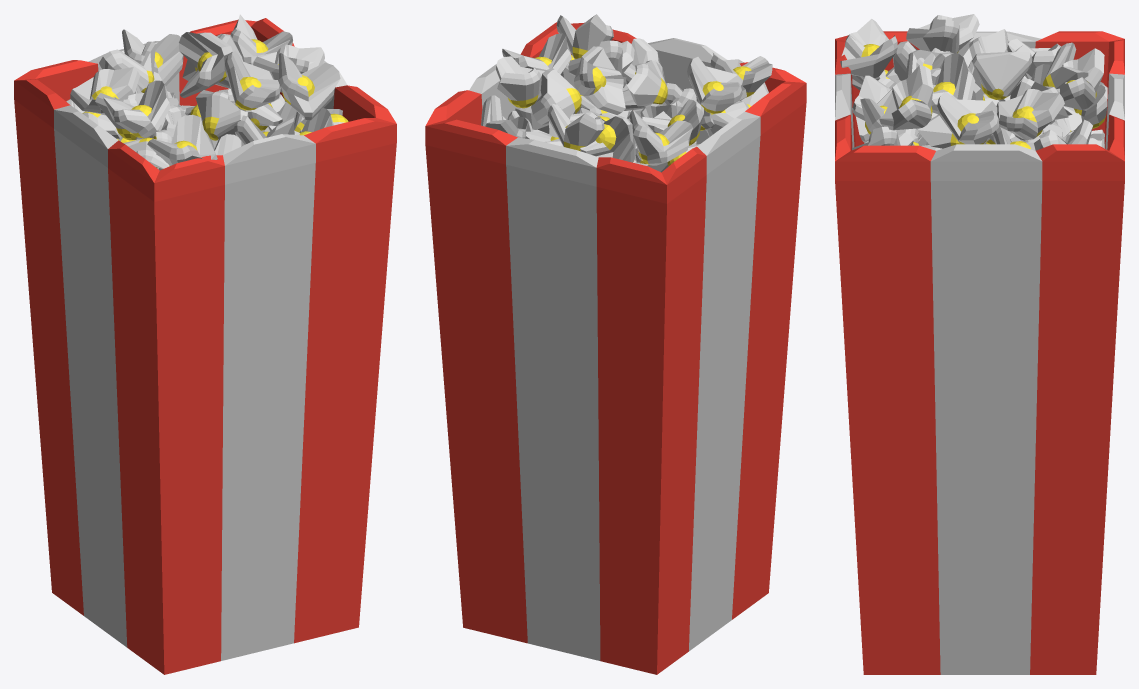
The model's file is Popcorn.fbx.
The picture shows the model from 3 angles, left to right: view 1: azimuth 30°, elevation 25°; view 2: azimuth 150°, elevation 25°; view 3: azimuth 270°, elevation 25°; orthographic projection. The views are drawn at different scales.
Parts seen in each view (by area): view 1: mesh_1669640596, mesh_239069268, mesh_1205285344, mesh_341930897, mesh_1814281813, mesh_1471486731, mesh_245783620, mesh_859057143, mesh_128564824, mesh_1880450612, mesh_1947525087, mesh_142265947 (+4 smaller); view 2: mesh_1669640596, mesh_1205285344, mesh_245783620, mesh_341930897, mesh_1880450612, mesh_1594645257, mesh_142265947, mesh_128564824, mesh_859057143, mesh_239069268, mesh_1947525087, mesh_1471486731 (+5 smaller); view 3: mesh_1669640596, mesh_239069268, mesh_1880450612, mesh_1947525087, mesh_1205285344, mesh_1471486731, mesh_341930897, mesh_859057143, mesh_1814281813, mesh_142265947, mesh_1898877884, mesh_722277621 (+11 smaller).
Part boxes in pixels (box(x1,y1,x2,y2)): mesh_1669640596: box(14, 18, 396, 674); mesh_239069268: box(279, 53, 340, 120); mesh_1205285344: box(179, 32, 232, 97); mesh_341930897: box(103, 80, 170, 137); mesh_1814281813: box(224, 50, 280, 110); mesh_1471486731: box(147, 114, 217, 165); mesh_245783620: box(70, 67, 139, 114); mesh_859057143: box(122, 29, 183, 86); mesh_128564824: box(195, 90, 248, 140); mesh_1880450612: box(230, 14, 292, 64); mesh_1947525087: box(253, 44, 324, 92); mesh_142265947: box(99, 41, 155, 92); mesh_1669640596: box(425, 22, 806, 674); mesh_1205285344: box(574, 46, 625, 114); mesh_245783620: box(630, 109, 692, 165); mesh_341930897: box(687, 57, 742, 113); mesh_1880450612: box(496, 56, 544, 108); mesh_1594645257: box(531, 68, 581, 137); mesh_142265947: box(570, 112, 633, 160); mesh_128564824: box(623, 60, 667, 110); mesh_859057143: box(547, 104, 604, 151); mesh_239069268: box(556, 14, 613, 59); mesh_1947525087: box(502, 33, 571, 74); mesh_1471486731: box(710, 53, 772, 97); mesh_1669640596: box(835, 31, 1124, 674); mesh_239069268: box(879, 65, 933, 130); mesh_1880450612: box(996, 89, 1064, 139); mesh_1947525087: box(937, 92, 999, 144); mesh_1205285344: box(972, 45, 1032, 99); mesh_1471486731: box(840, 19, 897, 77); mesh_341930897: box(906, 14, 979, 53); mesh_859057143: box(1056, 48, 1104, 109); mesh_1814281813: box(931, 53, 975, 114); mesh_142265947: box(1042, 42, 1088, 88); mesh_1898877884: box(852, 75, 890, 142); mesh_722277621: box(852, 126, 915, 150).
Bounding box in the file's own units: 67 × 149 × 67.
